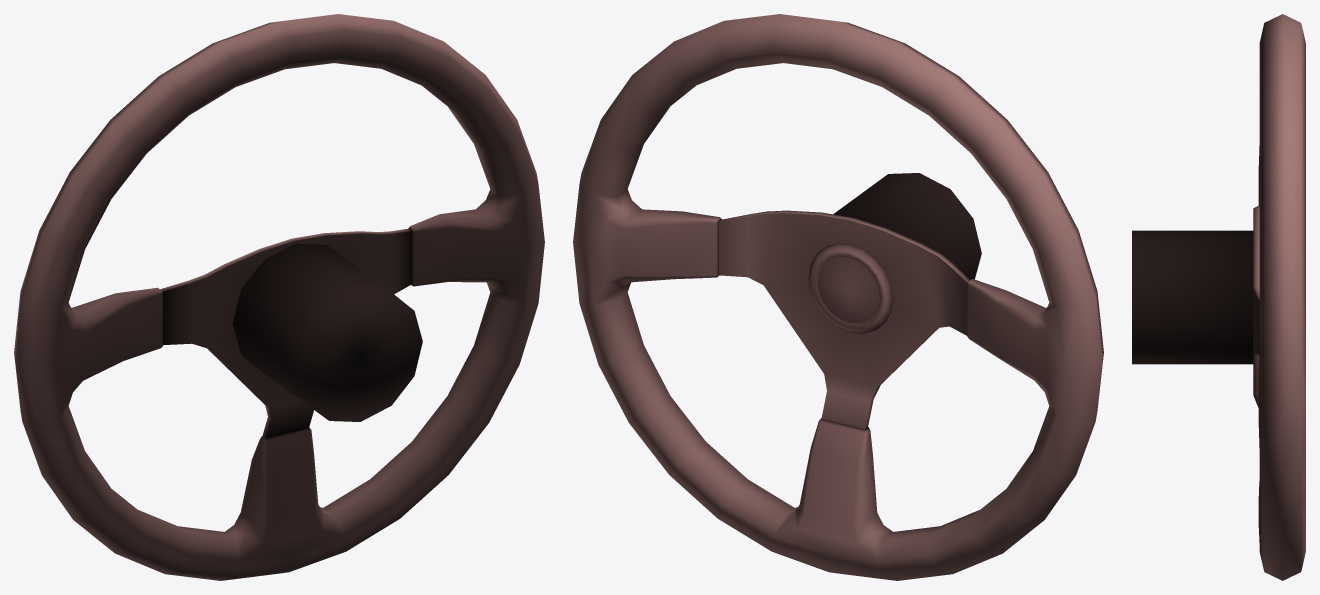
Rendered from MC_XJ220s_SteeringWheel_Trim.fbx.
The picture shows the model from 3 angles, left to right: view 1: azimuth 30°, elevation 25°; view 2: azimuth 150°, elevation 25°; view 3: azimuth 270°, elevation 25°; orthographic projection. The views are drawn at different scales.
Parts seen in each view (by area): view 1: MC_XJ220s_SteeringWheel_Trim; view 2: MC_XJ220s_SteeringWheel_Trim; view 3: MC_XJ220s_SteeringWheel_Trim.
Boxes of the visible parts, <box> form: MC_XJ220s_SteeringWheel_Trim: <box>14,14,544,580</box>; MC_XJ220s_SteeringWheel_Trim: <box>573,14,1103,580</box>; MC_XJ220s_SteeringWheel_Trim: <box>1132,14,1305,580</box>.
Bounding box in the file's own units: 37.33 × 37.33 × 11.44.
